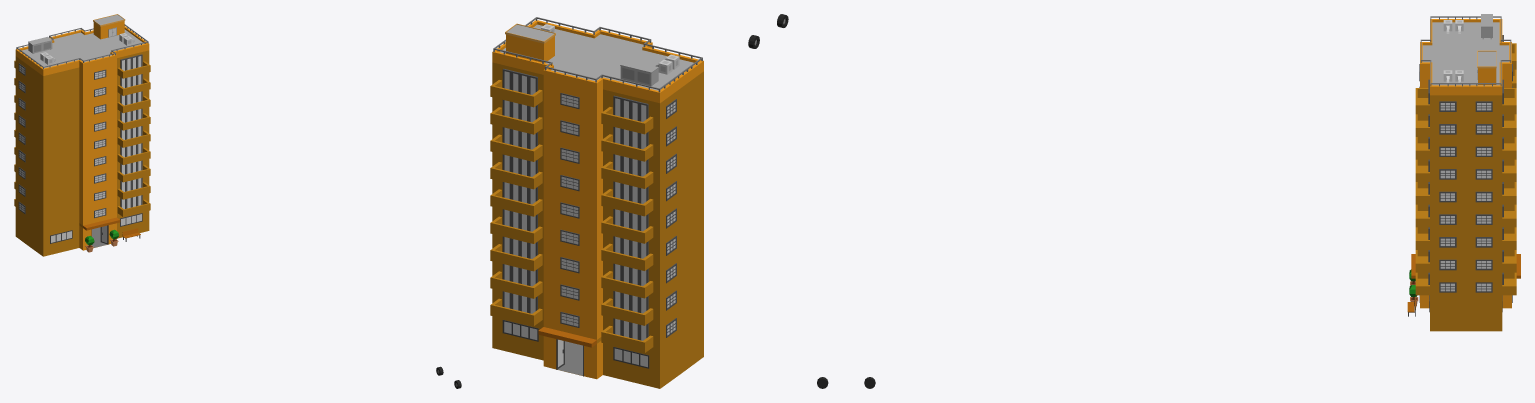
Rendered from Building_1.fbx.
The picture shows the model from 3 angles, left to right: view 1: azimuth 30°, elevation 25°; view 2: azimuth 150°, elevation 25°; view 3: azimuth 270°, elevation 25°; orthographic projection. The views are drawn at different scales.
Visible parts, largest first — view 1: Floor.023, Cube.011, Base.012; view 2: Floor.023, Cube.011, Base.012, Ruote Dx; view 3: Floor.023, Cube.011, Base.012.
Boxes of the visible parts, left/top/right/bottom form: Floor.023: left=14, top=50, right=150, bottom=231; Cube.011: left=15, top=14, right=149, bottom=75; Base.012: left=15, top=211, right=149, bottom=256; Floor.023: left=490, top=62, right=703, bottom=353; Cube.011: left=492, top=17, right=703, bottom=103; Base.012: left=492, top=316, right=703, bottom=388; Ruote Dx: left=748, top=14, right=788, bottom=48; Floor.023: left=1415, top=35, right=1516, bottom=298; Cube.011: left=1420, top=14, right=1511, bottom=95; Base.012: left=1411, top=254, right=1520, bottom=331.
Size of the model in its own units: 2631 by 2803 by 6648.
